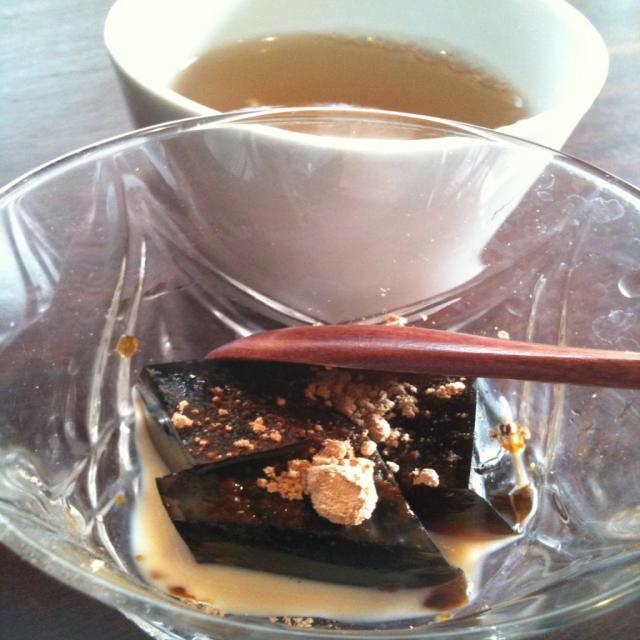Tea: (170, 31, 532, 137)
